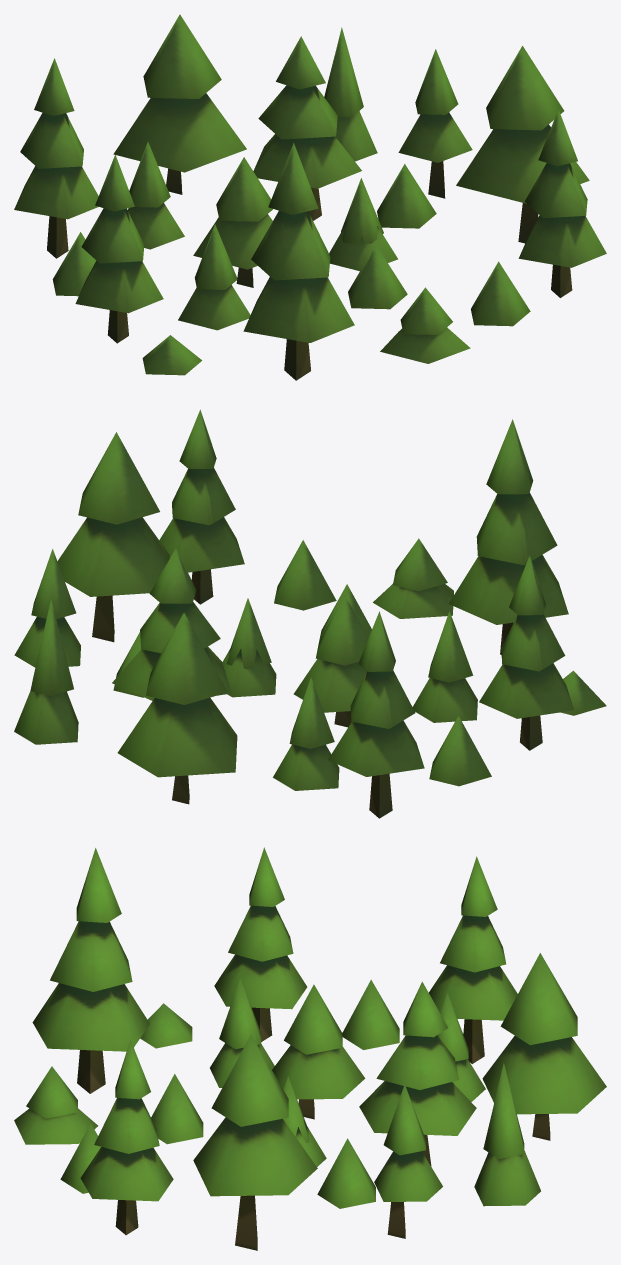
Rendered from Sce_worldmap_wood_01.FBX.
3 renders of one model, top to bottom at view 1: azimuth 30°, elevation 25°; view 2: azimuth 150°, elevation 25°; view 3: azimuth 270°, elevation 25°, orthographic. The views are drawn at different scales.
Parts seen in each view (by area): view 1: Sce_worldmap_wood_01; view 2: Sce_worldmap_wood_01; view 3: Sce_worldmap_wood_01.
Boxes of the visible parts, box(x1,y1,x2,y2) form: Sce_worldmap_wood_01: box(14, 14, 606, 380); Sce_worldmap_wood_01: box(14, 409, 606, 818); Sce_worldmap_wood_01: box(14, 847, 606, 1250).
Bounding box in the file's own units: 54.58 × 24.5 × 55.03.
